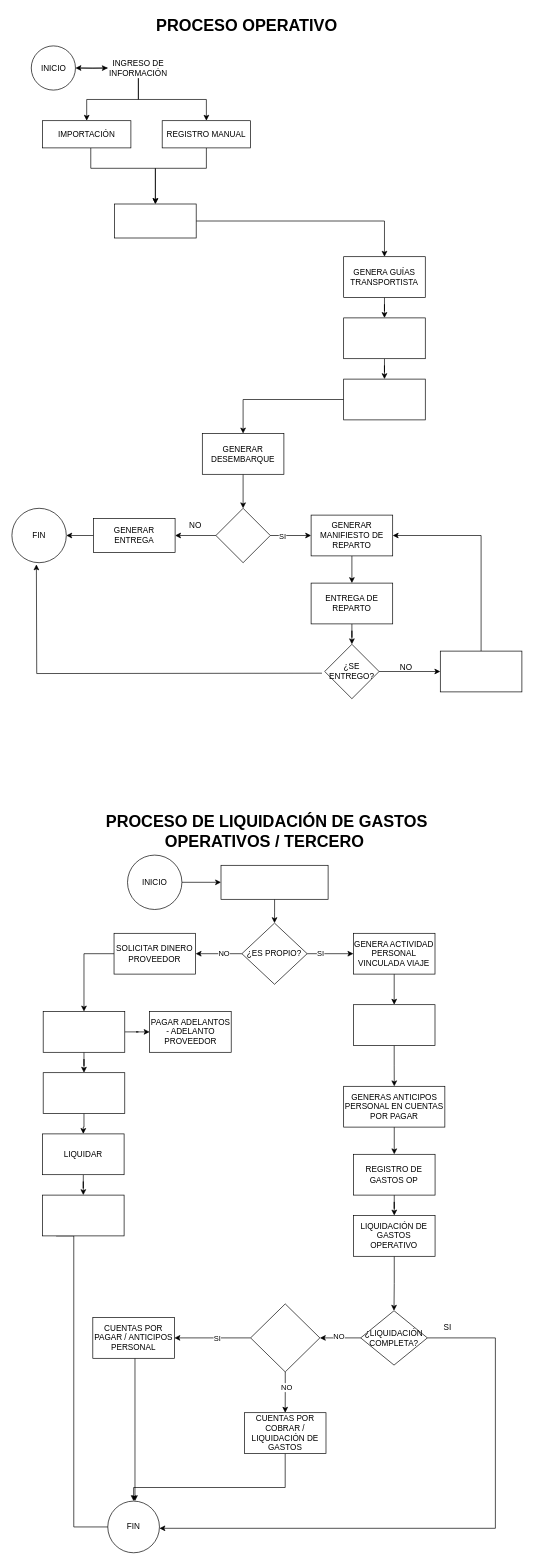
The diagram is 534 pixels wide and 1565 high, and some of its shapes have lost their labels. Each missing label, with the box of its shape:
CONSTANCIA DE PESOS Y MEDIDAS: (343, 378, 425, 420)
DESEMBARQUE REPARTO: (440, 650, 522, 692)
GENERAN DISPOSICIÓN DE DINERO/SOLICTUD: (353, 1004, 435, 1046)
GENERAR MANIFIESTO: (343, 317, 425, 359)
INGRESAR FACTURA: (42, 1072, 125, 1114)
PAGAR SALDO - SALDO PROVEEDOR: (42, 1194, 124, 1236)
PROGRAMACIÓN: (114, 203, 196, 238)
PROGRAMACIÓN VIAJE: (220, 865, 328, 899)
SOLICITAR ADELANTOS: (42, 1011, 125, 1052)
¿ES REPARTO?: (215, 508, 270, 563)
¿SALDO A FAVOR DEL CONDUCTOR?: (250, 1303, 320, 1372)
